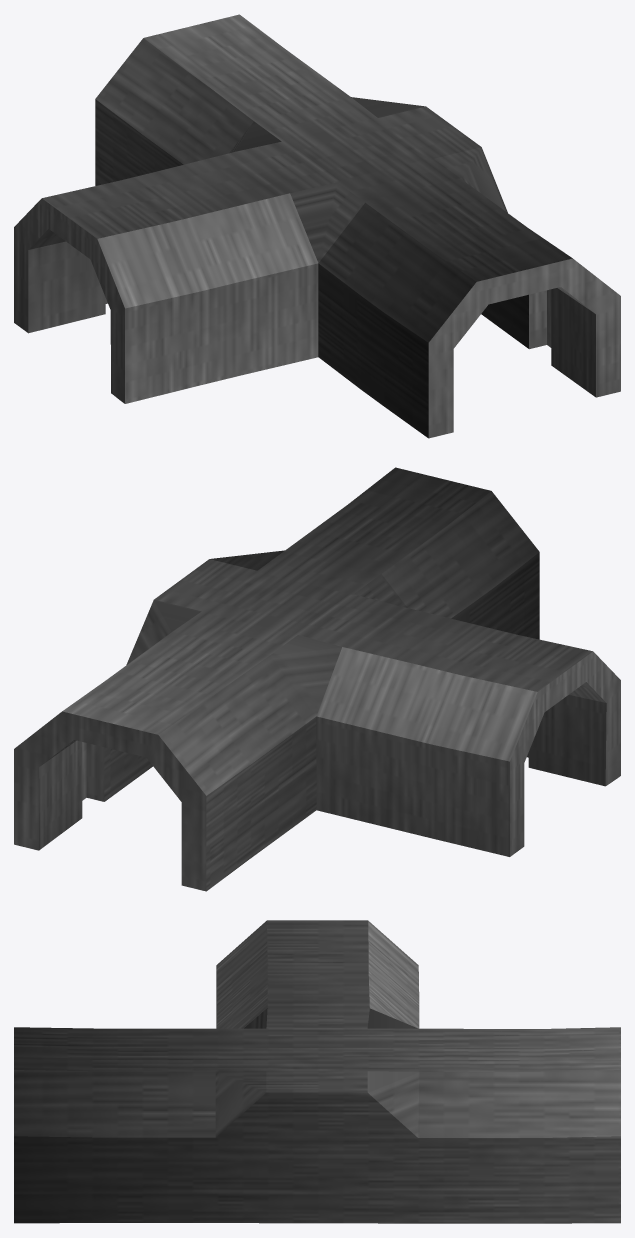
File: Hallway_T_Piece.fbx
3 views of the same model, one above another, from view 1: azimuth 30°, elevation 25°; view 2: azimuth 150°, elevation 25°; view 3: azimuth 270°, elevation 25° (orthographic). The views are drawn at different scales.
Parts seen in each view (by area): view 1: HallwayTPiece; view 2: HallwayTPiece; view 3: HallwayTPiece.
Boxes of the visible parts, left/top/right/bottom form: HallwayTPiece: left=14, top=14, right=620, bottom=438; HallwayTPiece: left=14, top=467, right=620, bottom=891; HallwayTPiece: left=14, top=920, right=620, bottom=1223.
Size of the model in its own units: 8.01 by 2.88 by 12.
Materials: 1 (1 with a texture image).
